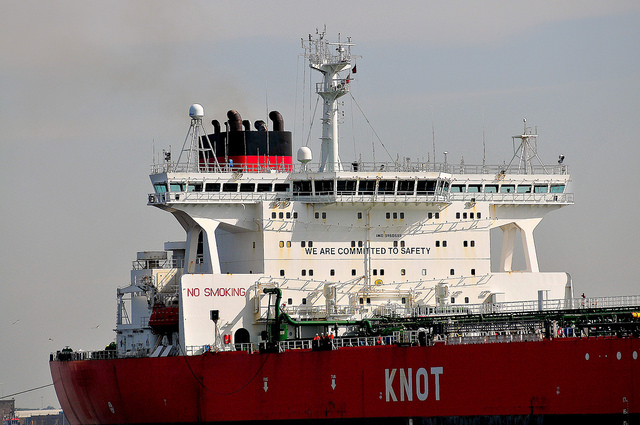tanker: (49, 22, 640, 423)
